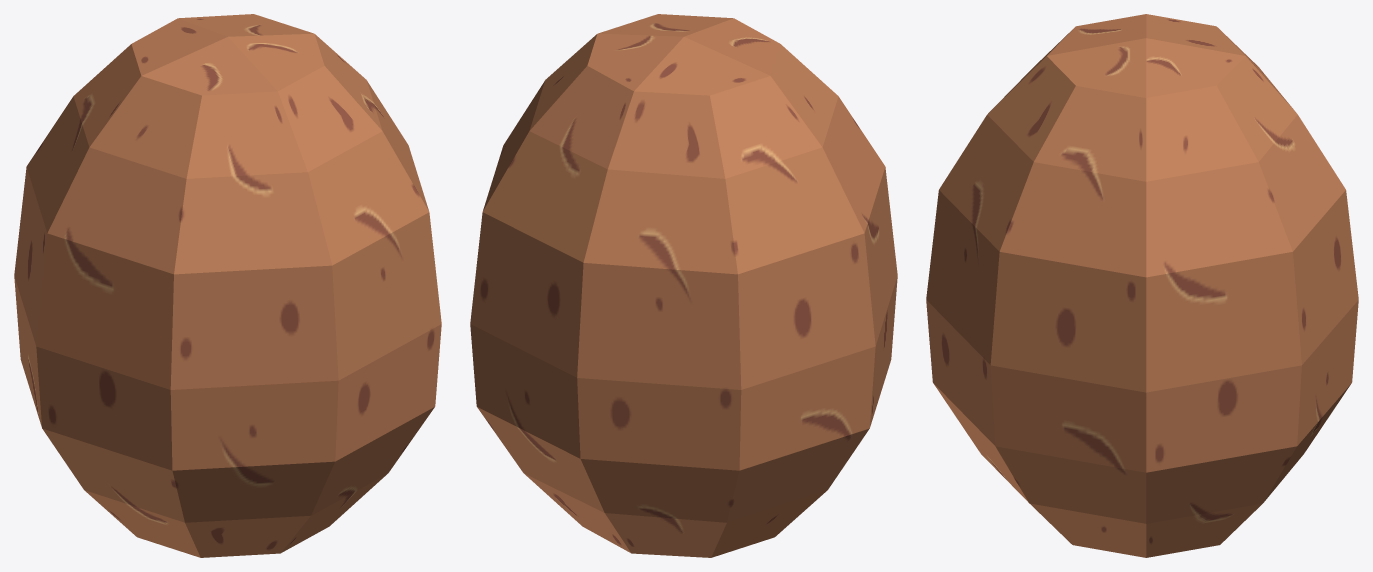
The model's file is f_potato.fbx.
3 renders of one model, left to right at view 1: azimuth 30°, elevation 25°; view 2: azimuth 150°, elevation 25°; view 3: azimuth 270°, elevation 25°, orthographic.
Visible parts, largest first — view 1: f_potato; view 2: f_potato; view 3: f_potato.
Boxes of the visible parts, x1,y1,x2,y2 form: f_potato: (14, 14, 441, 557); f_potato: (470, 14, 897, 557); f_potato: (926, 14, 1358, 557).
Bounding box in the file's own units: 28.33 × 28.83 × 35.73.
